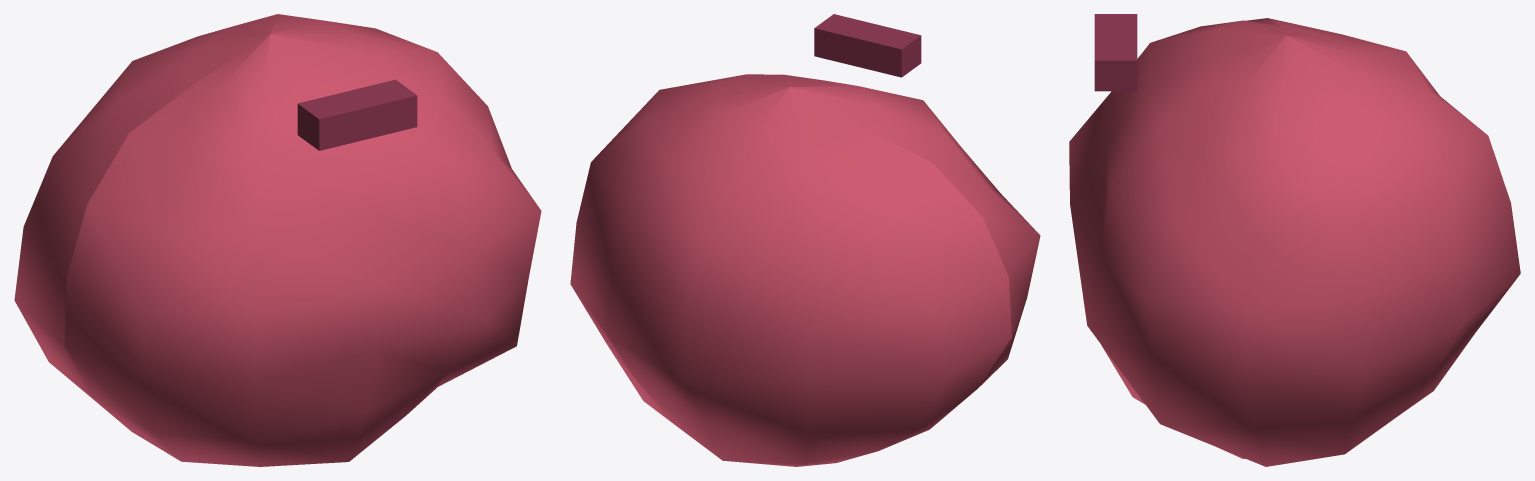
The model's file is grano-frejol.glb.
3 renders of one model, left to right at view 1: azimuth 30°, elevation 25°; view 2: azimuth 150°, elevation 25°; view 3: azimuth 270°, elevation 25°, orthographic. The views are drawn at different scales.
Visible parts, largest first — view 1: cuerpo, raya; view 2: cuerpo, raya; view 3: cuerpo, raya.
Boxes of the visible parts, x1,y1,x2,y2 form: cuerpo: (14,14,541,466); raya: (297,79,417,150); cuerpo: (570,74,1040,466); raya: (814,14,921,77); cuerpo: (1069,18,1520,466); raya: (1094,14,1137,91).
Bounding box in the file's own units: 0.122 × 0.1016 × 0.1063.
